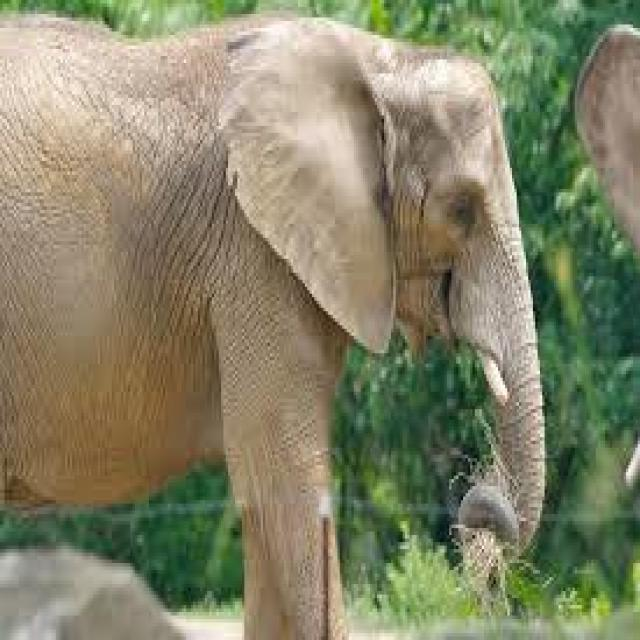Elephant: (0, 7, 549, 626)
